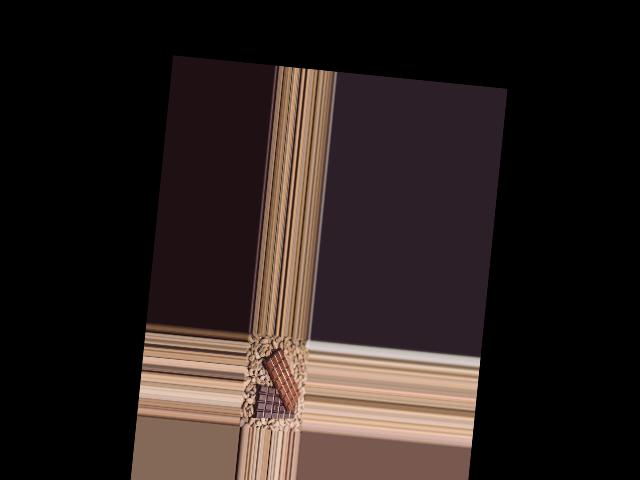chocolate: (250, 384, 299, 426)
